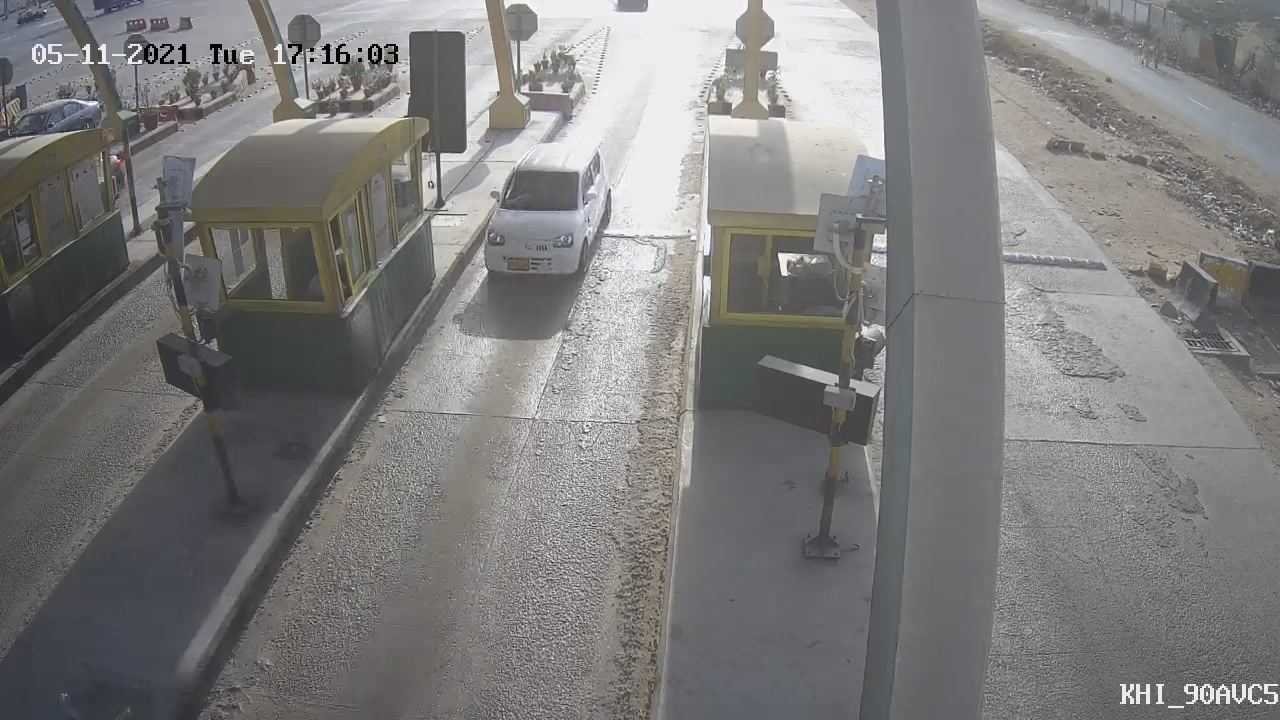F1: (463, 131, 629, 301)
